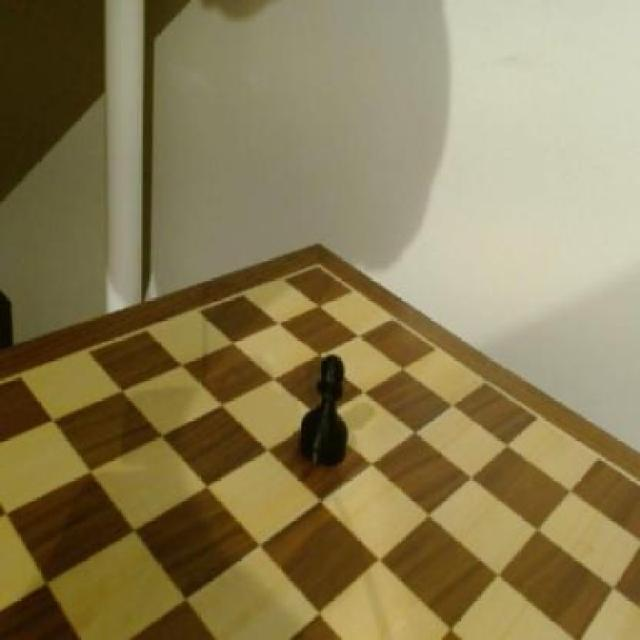black-knight: (294, 345, 356, 476)
